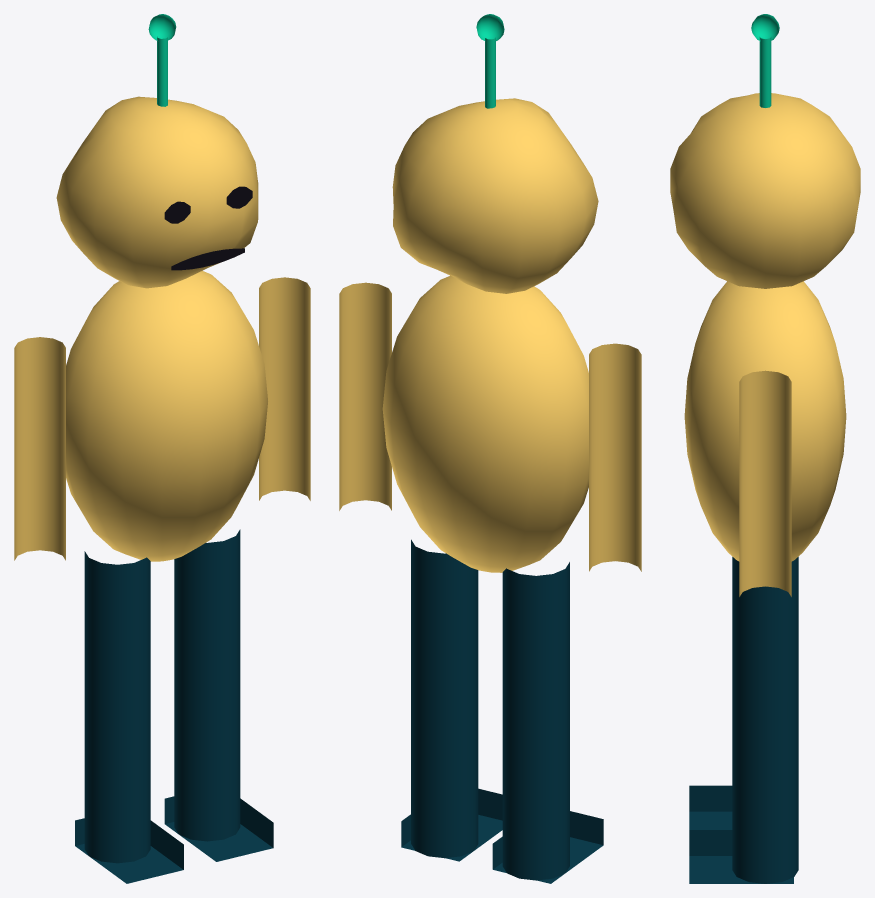
File: agent.static-shelby.glb
3 views of the same model, side by side, from view 1: azimuth 30°, elevation 25°; view 2: azimuth 150°, elevation 25°; view 3: azimuth 270°, elevation 25° (orthographic). The views are drawn at different scales.
Visible parts, largest first — view 1: body, legs, head, face, antenna; view 2: body, legs, head, antenna; view 3: body, head, legs, antenna.
Boxes of the visible parts, x1,y1,x2,y2 form: body: (14, 271, 310, 561); legs: (75, 529, 273, 883); head: (56, 96, 258, 288); face: (164, 186, 252, 270); antenna: (148, 14, 176, 106); body: (339, 275, 641, 572); legs: (401, 539, 603, 883); head: (392, 98, 598, 293); antenna: (476, 14, 504, 108); body: (684, 281, 846, 596); head: (670, 93, 860, 288); legs: (689, 557, 798, 883); antenna: (751, 14, 779, 107).
Size of the model in its own units: 0.7246 by 1.97 by 0.4083.
